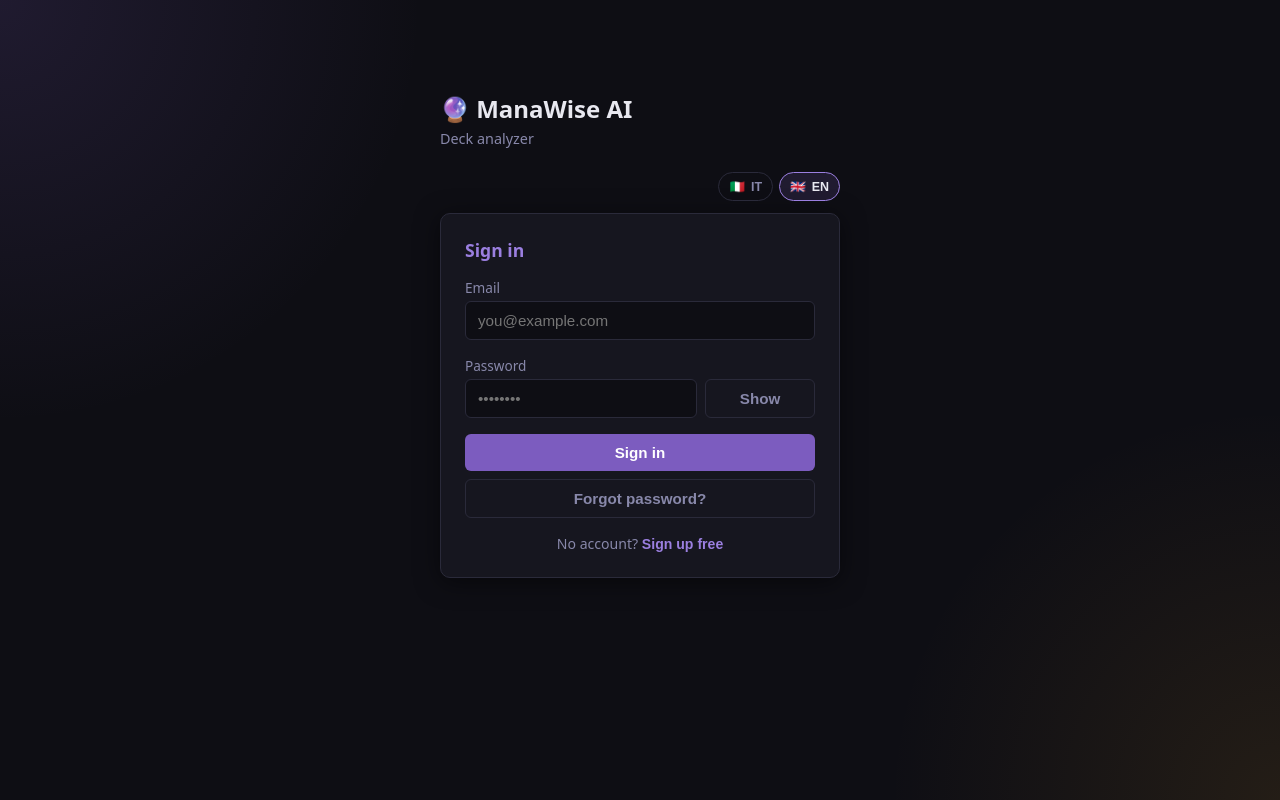
Test case: Auth reset flow › shows password complexity guidance in register mode and requires email verification
Click the button "Sign up free".
click(683, 544)  # box x1=642 y1=536 x2=723 y2=552
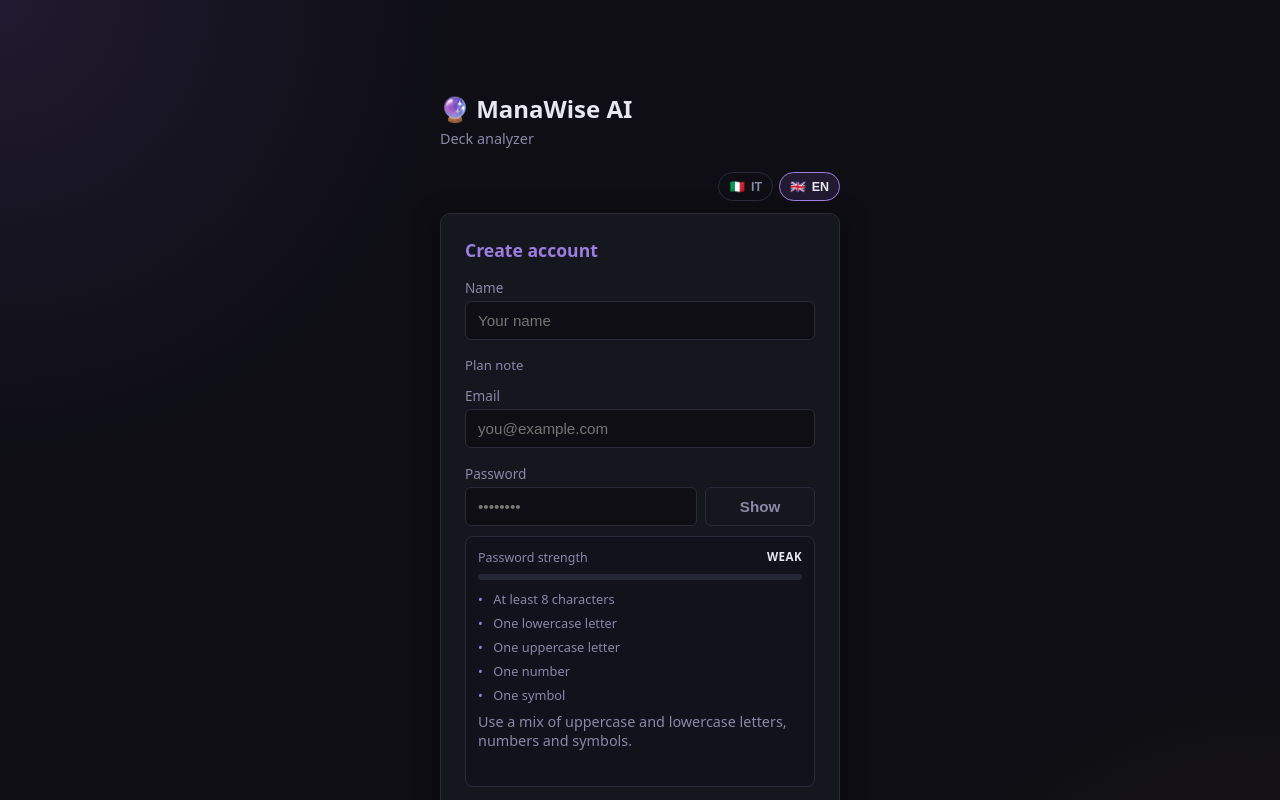
Now the number of password fields with placeholder "••••••••" is 2
Type "abc" into the password field with placeholder "••••••••".
click(581, 506); type("abc")  # box x1=465 y1=487 x2=697 y2=526
(page scrolled)
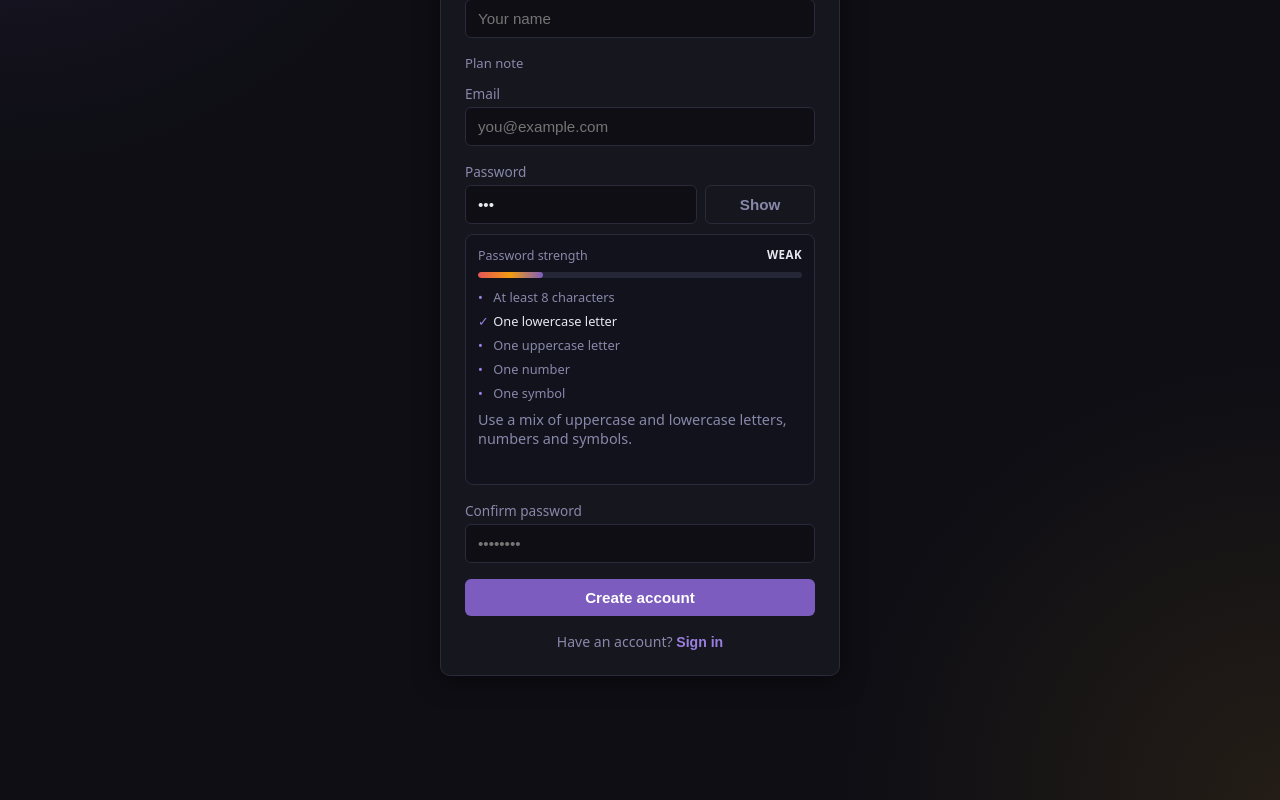
Type "abc" into the password field with placeholder "••••••••".
click(640, 544); type("abc")  # box x1=465 y1=524 x2=815 y2=563
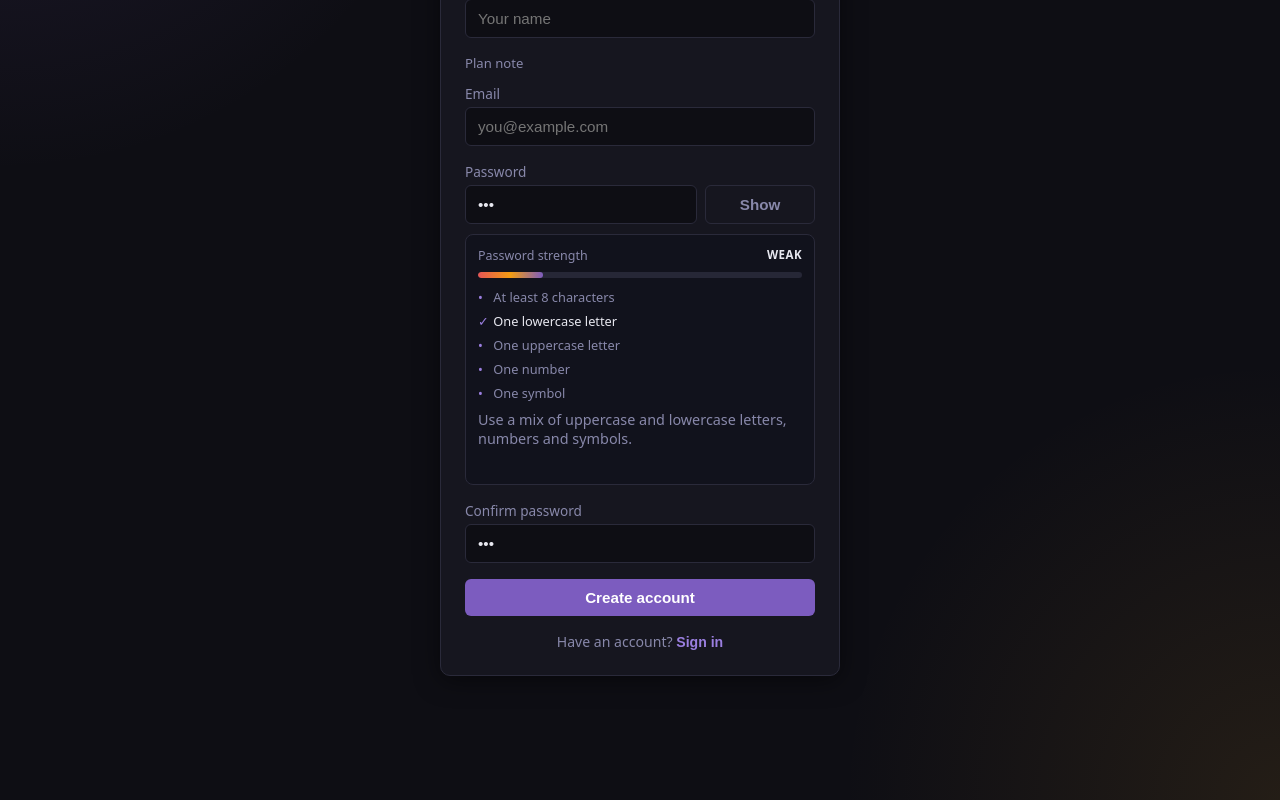
Now the text "Password strength" is shown, box x1=478 y1=247 x2=588 y2=264
Now the text "Weak" is shown, box x1=767 y1=247 x2=802 y2=264
Now the text "At least 8 characters" is shown, box x1=493 y1=288 x2=615 y2=306
Type "Abcdef12!" into the 1st password field with placeholder "••••••••".
click(581, 204); type("Abcdef12!")  # box x1=465 y1=185 x2=697 y2=224
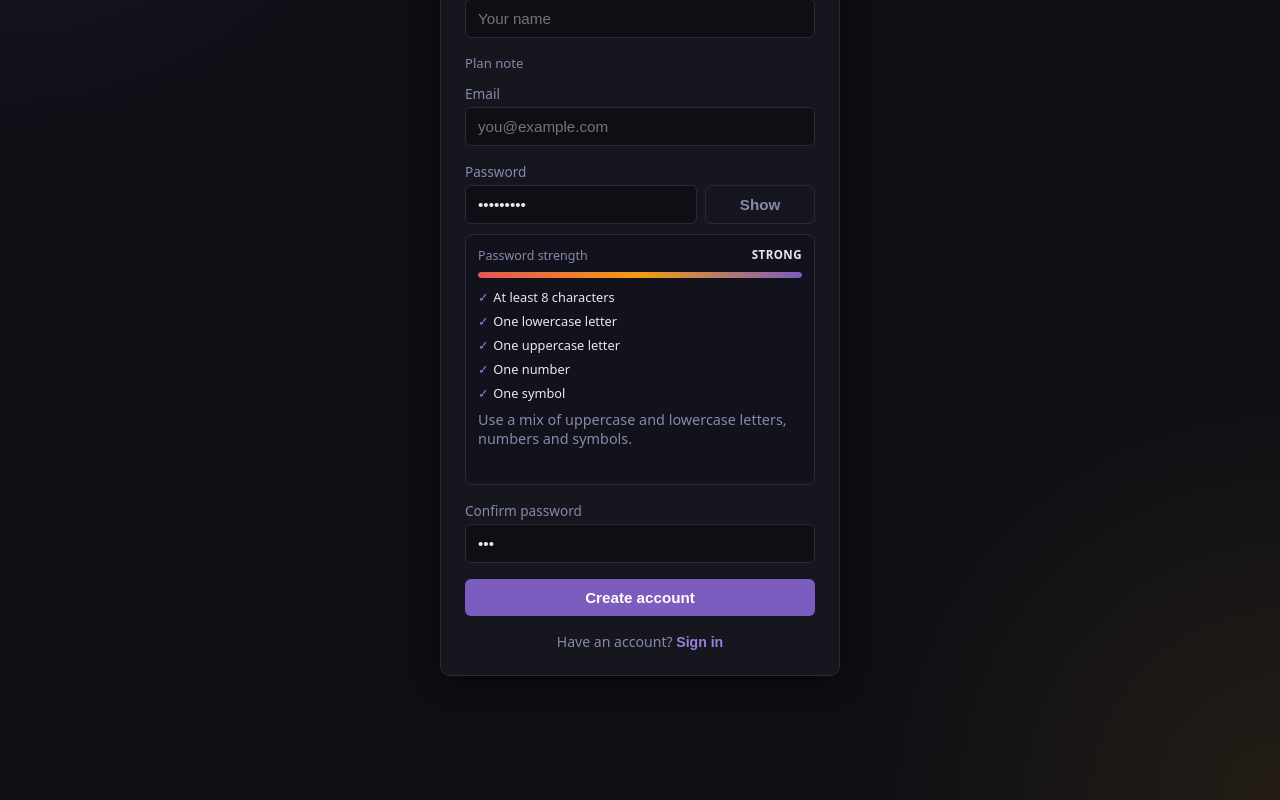
Type "Abcdef12!" into the password field with placeholder "••••••••" below "Confirm password".
click(640, 544); type("Abcdef12!")  # box x1=465 y1=524 x2=815 y2=563
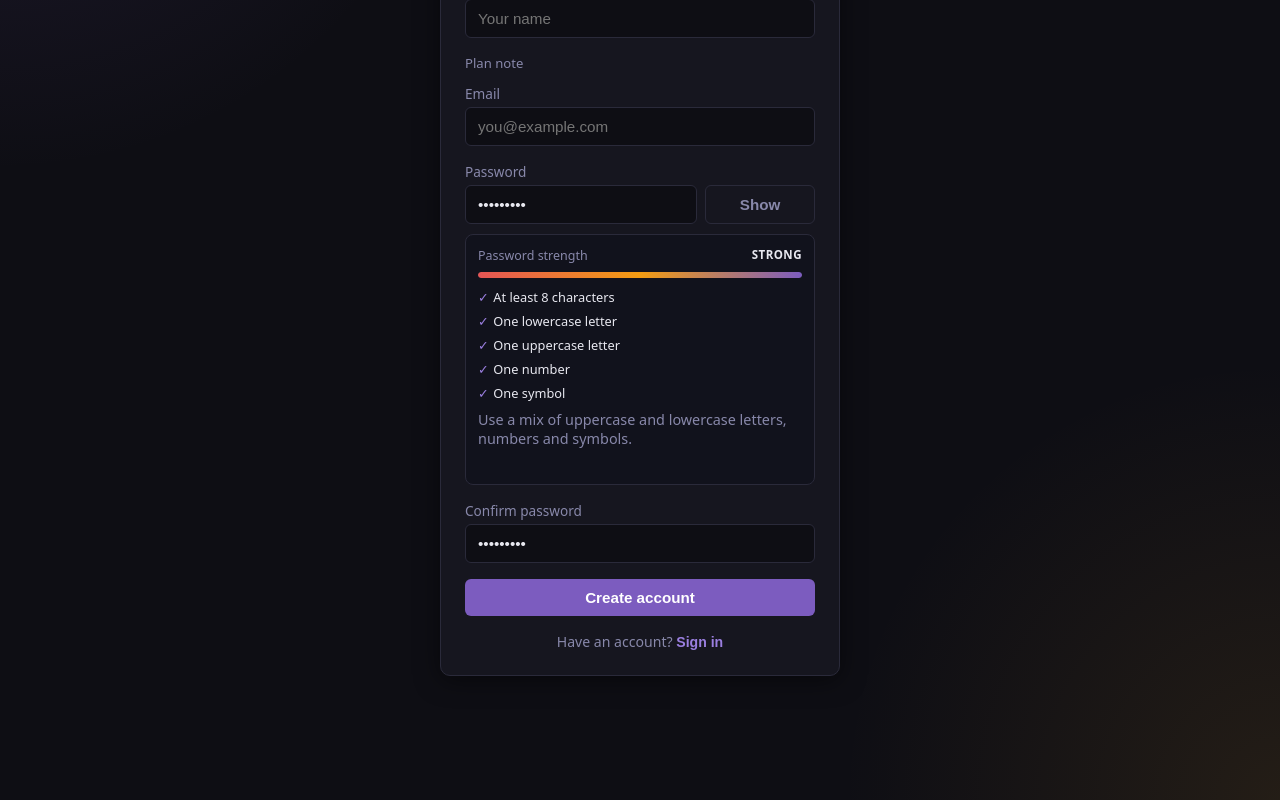
Now the text "Strong" is shown, box x1=752 y1=247 x2=802 y2=264
Type "user@example.com" into the field with placeholder "you@example.com".
click(640, 126); type("user@example.com")  # box x1=465 y1=107 x2=815 y2=146
Type "User Name" into the field with placeholder "Your name".
click(640, 18); type("User Name")  # box x1=465 y1=0 x2=815 y2=38
Click the button "Create account".
click(640, 598)  # box x1=465 y1=579 x2=815 y2=616
(page scrolled)
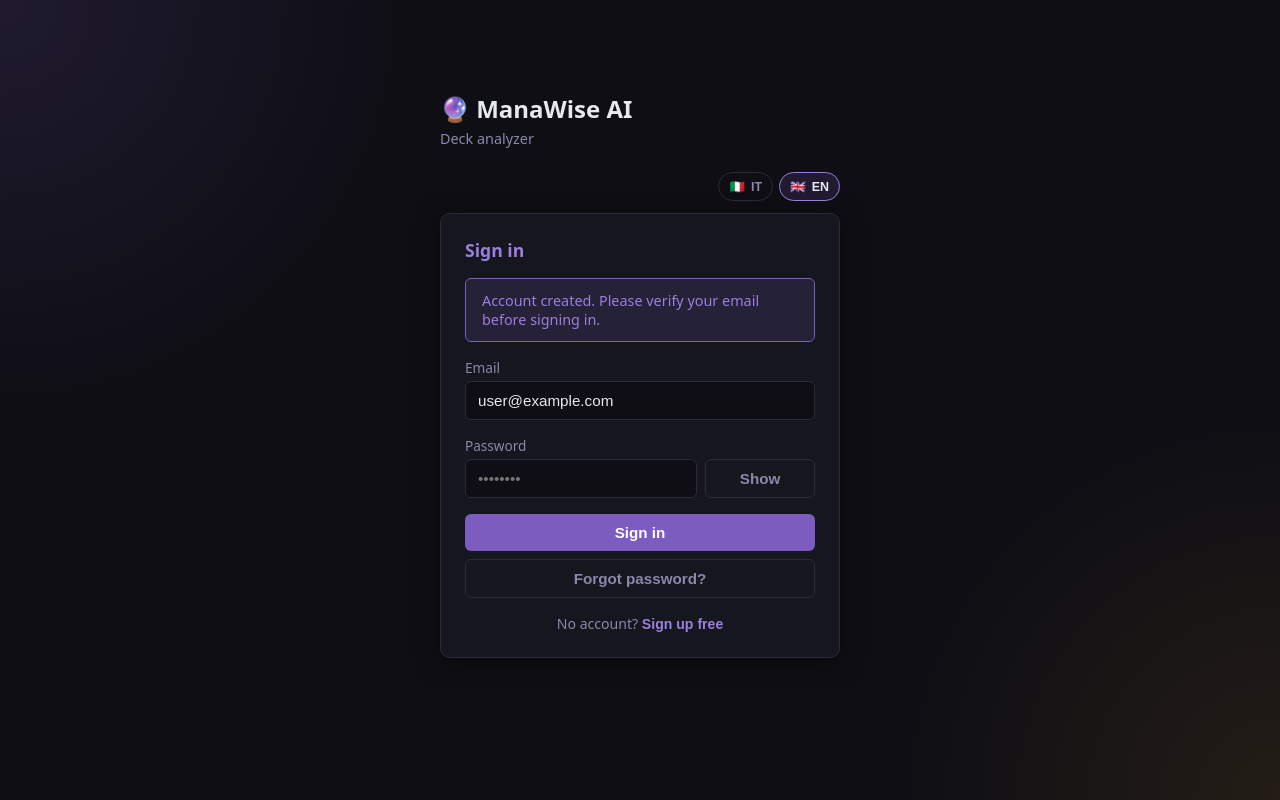
Now the text "Account created. Please verify your email before signing in." is shown, box x1=465 y1=278 x2=815 y2=342
